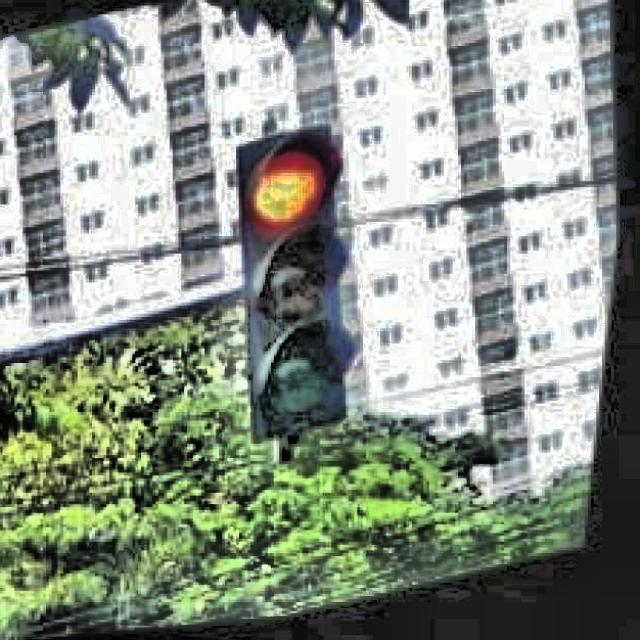red: (236, 129, 360, 428)
